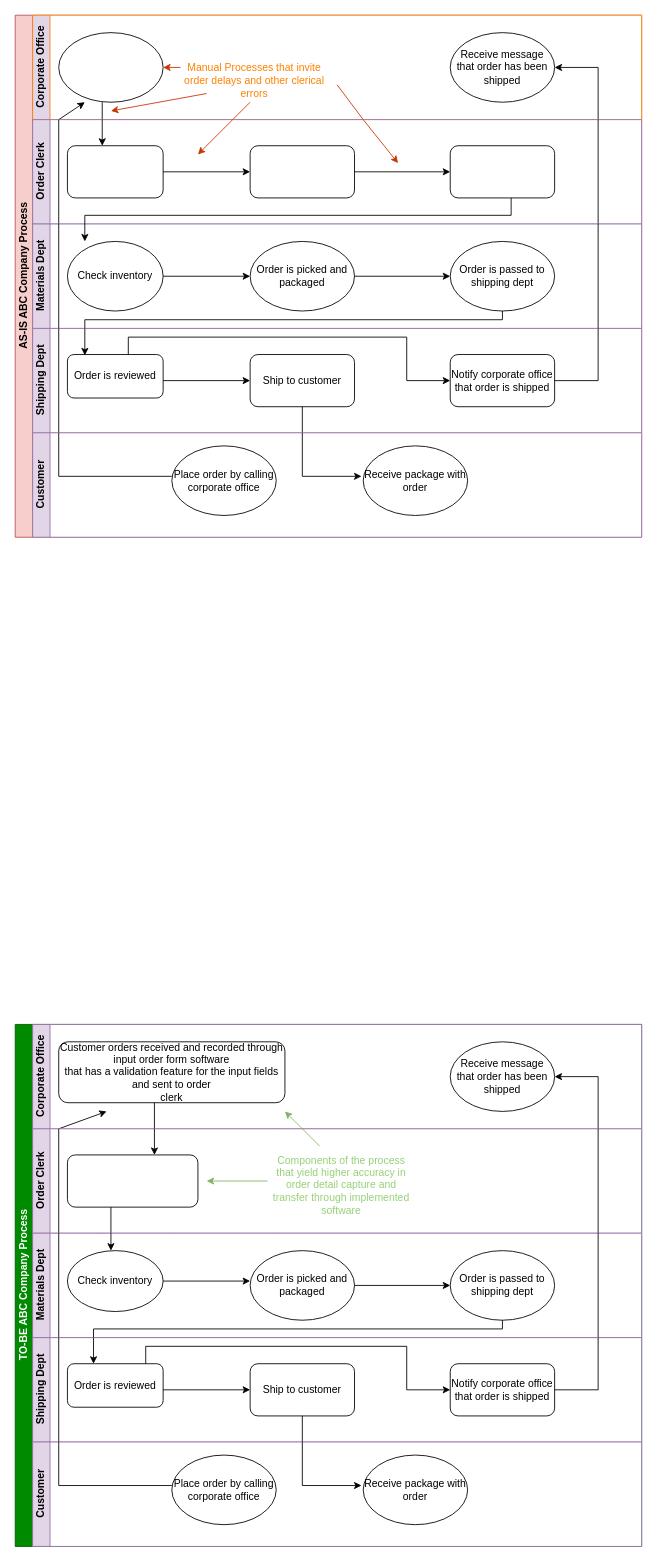
Some shapes in this 657 by 1562 pixel diagram are drawn without their labels. The centre of each missing label's shape, as x and y in pixels:
"Double check the input order forms in real time and send to materials department" belongs at pixel 132 1180.
"Fax machine check every 2 hours by order clerk" belongs at pixel 115 171.
"Once information is validated send to materials dept" belongs at pixel 502 171.
"Orders received from customers via phone" belongs at pixel 110 67.
"Verify order information" belongs at pixel 302 171.
